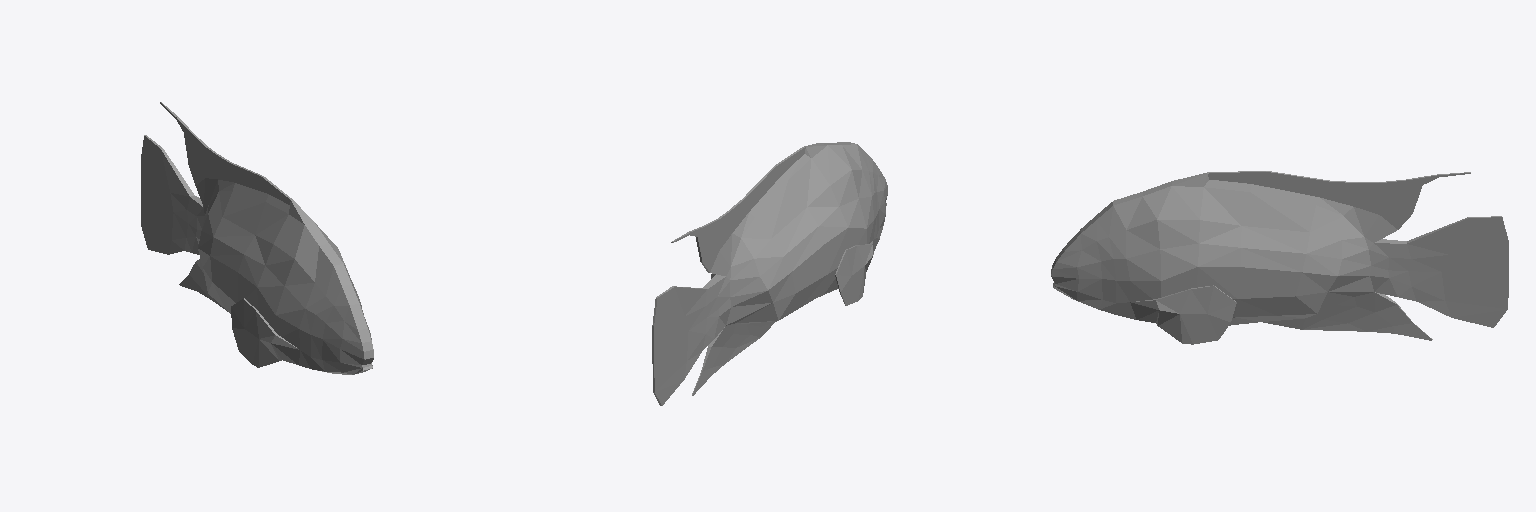
Rendered from TropicalFish14.obj.
3 views of the same model, side by side, from view 1: azimuth 30°, elevation 25°; view 2: azimuth 150°, elevation 25°; view 3: azimuth 270°, elevation 25° (orthographic).
Parts seen in each view (by area): view 1: TropicalFish14; view 2: TropicalFish14; view 3: TropicalFish14.
Boxes of the visible parts, x1=… form: TropicalFish14: x1=141, y1=102, x2=373, y2=374; TropicalFish14: x1=652, y1=142, x2=887, y2=405; TropicalFish14: x1=1051, y1=171, x2=1508, y2=344.
Size of the model in its own units: 117 by 197 by 482.